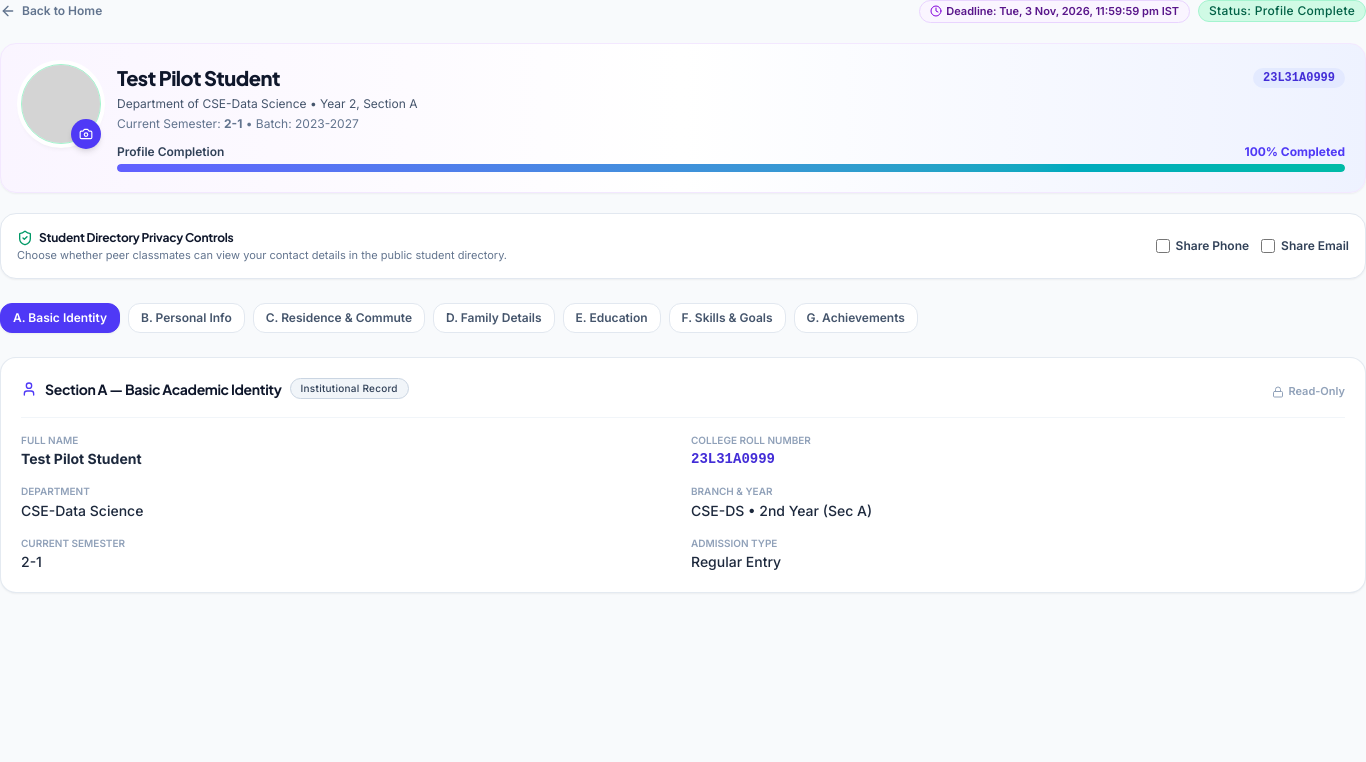
Mentor Connect — Simplified Student Profile & Sections F and G › 3. Direct Save updates Section B in Supabase and displays "Saved Successfully"
The width and height of the screenshot is (1366, 762).
What coordinates should you click on to do the following:
click the tab "B. Personal Info"
I would click on:
 (186, 318)
Its box is [128,303,245,333].
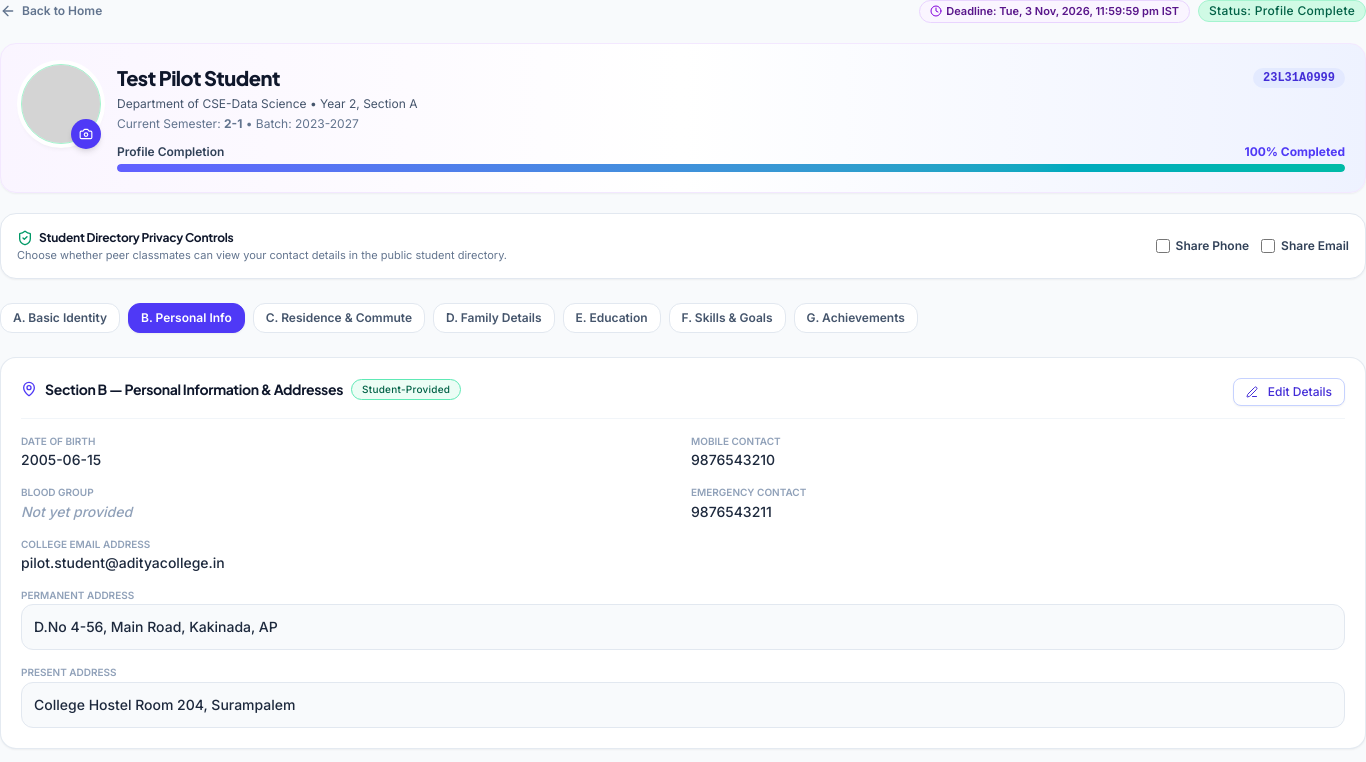
What coordinates should you click on to do the following:
click the button "Edit Details"
I would click on:
 (1289, 392)
Its box is [1233,378,1345,406].
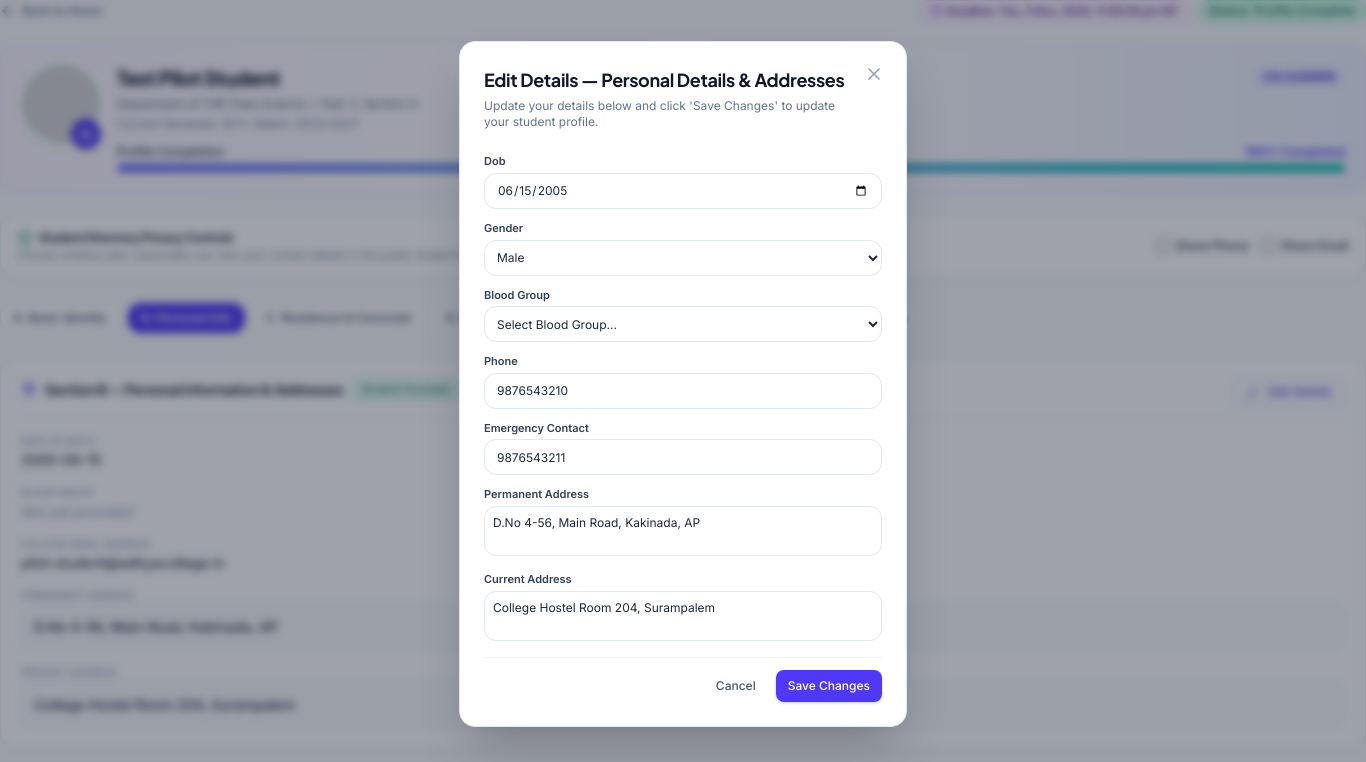
What coordinates should you click on to do the following:
click the button "Save Changes"
I would click on:
 (829, 686)
Its box is [776,670,882,702].
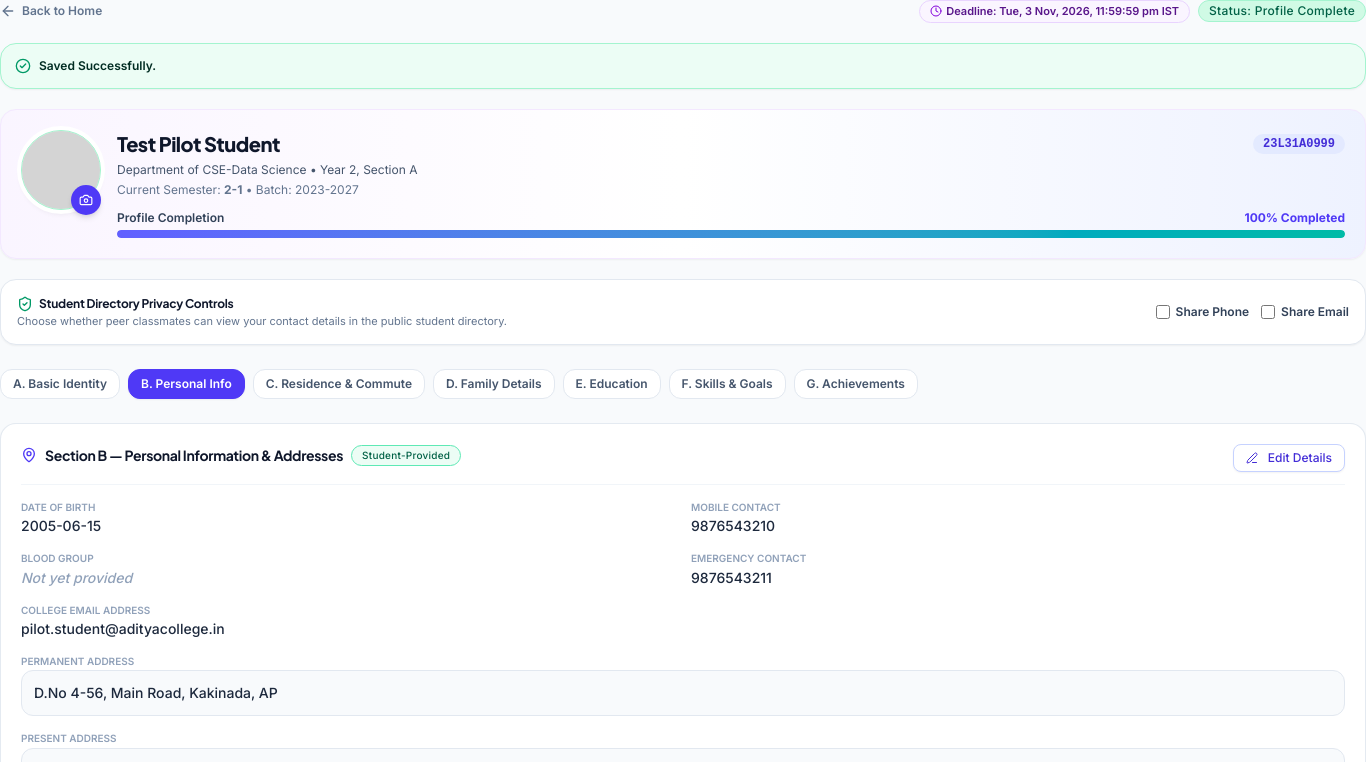
Now the text "Saved Successfully." is shown, box [39,58,156,74]
